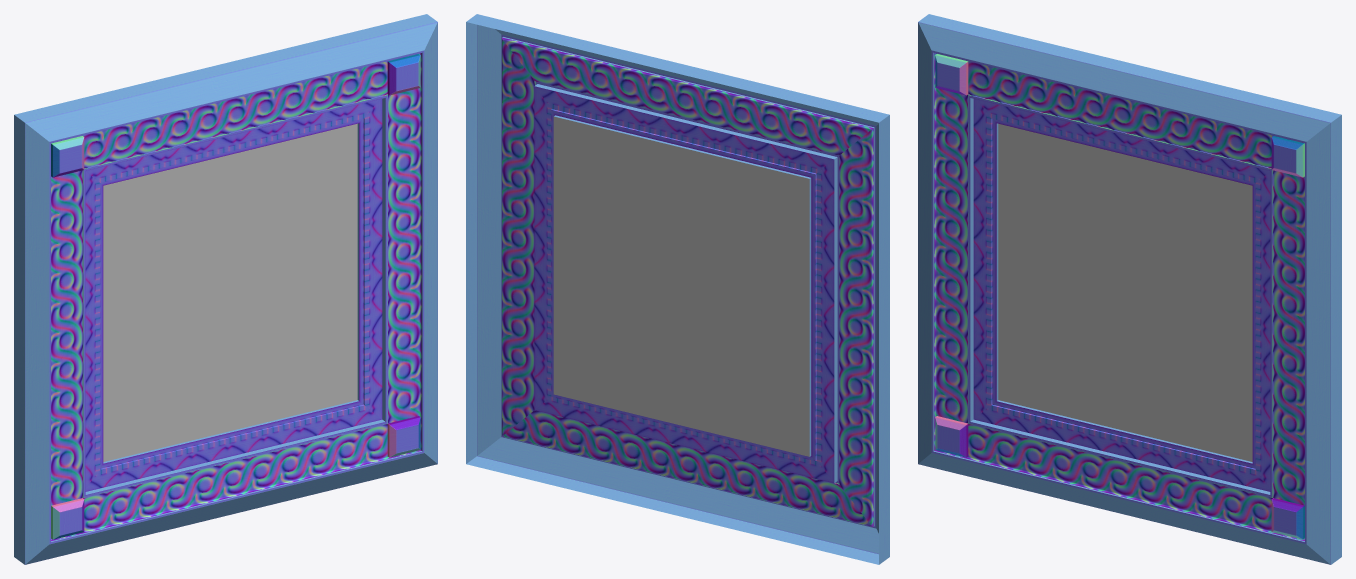
3 renders of one model, left to right at view 1: azimuth 30°, elevation 25°; view 2: azimuth 150°, elevation 25°; view 3: azimuth 330°, elevation 25°, orthographic.
Parts seen in each view (by area): view 1: _14_20_frame, _14_20; view 2: _14_20_frame, _14_20; view 3: _14_20_frame, _14_20.
Part boxes in pixels (box(x1,y1,x2,y2)): _14_20_frame: box(14, 14, 437, 564); _14_20: box(103, 123, 357, 461); _14_20_frame: box(466, 14, 889, 564); _14_20: box(553, 116, 809, 456); _14_20_frame: box(918, 14, 1341, 564); _14_20: box(998, 123, 1252, 461).
Size of the model in its own units: 129 by 132 by 10.11.
